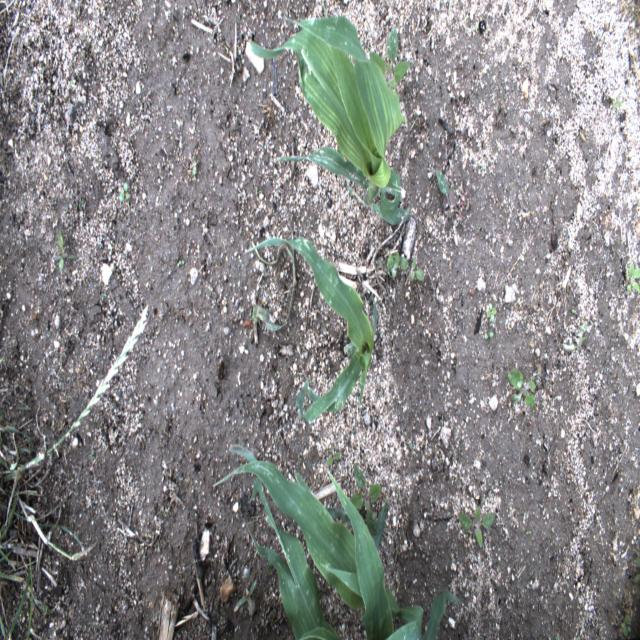crop: (211, 443, 462, 639), (249, 0, 410, 227), (242, 235, 378, 423)
weed: (0, 303, 149, 639), (250, 226, 297, 332), (347, 462, 382, 538), (370, 24, 410, 90), (456, 505, 496, 549), (506, 368, 542, 414), (434, 169, 464, 220), (54, 227, 78, 274), (232, 577, 258, 614), (396, 254, 426, 282), (625, 261, 640, 293), (385, 250, 400, 280), (178, 156, 199, 176), (326, 442, 341, 467), (576, 320, 588, 347), (611, 93, 623, 120), (118, 180, 130, 203), (486, 302, 498, 323), (620, 614, 631, 636), (633, 556, 640, 585), (249, 304, 259, 322), (464, 194, 470, 210), (484, 331, 494, 340), (380, 0, 390, 9), (631, 584, 639, 595), (88, 447, 94, 461), (568, 308, 576, 317), (631, 12, 638, 22), (479, 162, 486, 172), (472, 21, 478, 32), (554, 632, 562, 640), (254, 185, 259, 196), (178, 258, 185, 265), (525, 529, 532, 536), (78, 196, 82, 208), (441, 412, 444, 428), (297, 452, 300, 467), (575, 636, 581, 640)
